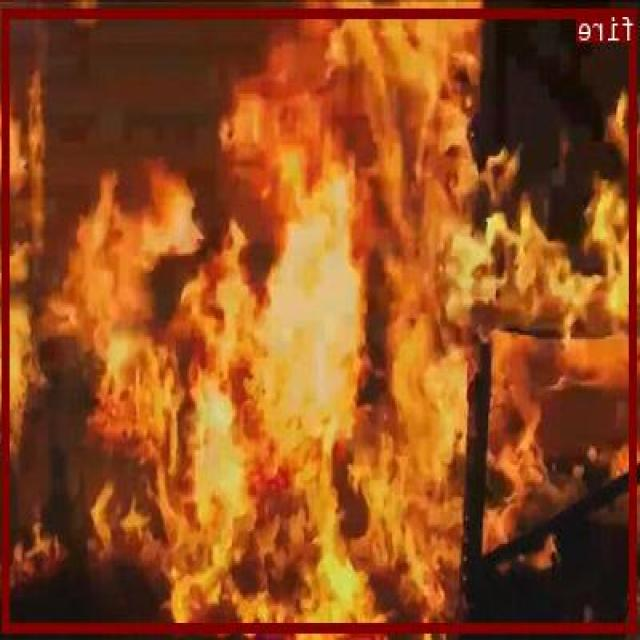fire: (5, 8, 638, 629)
